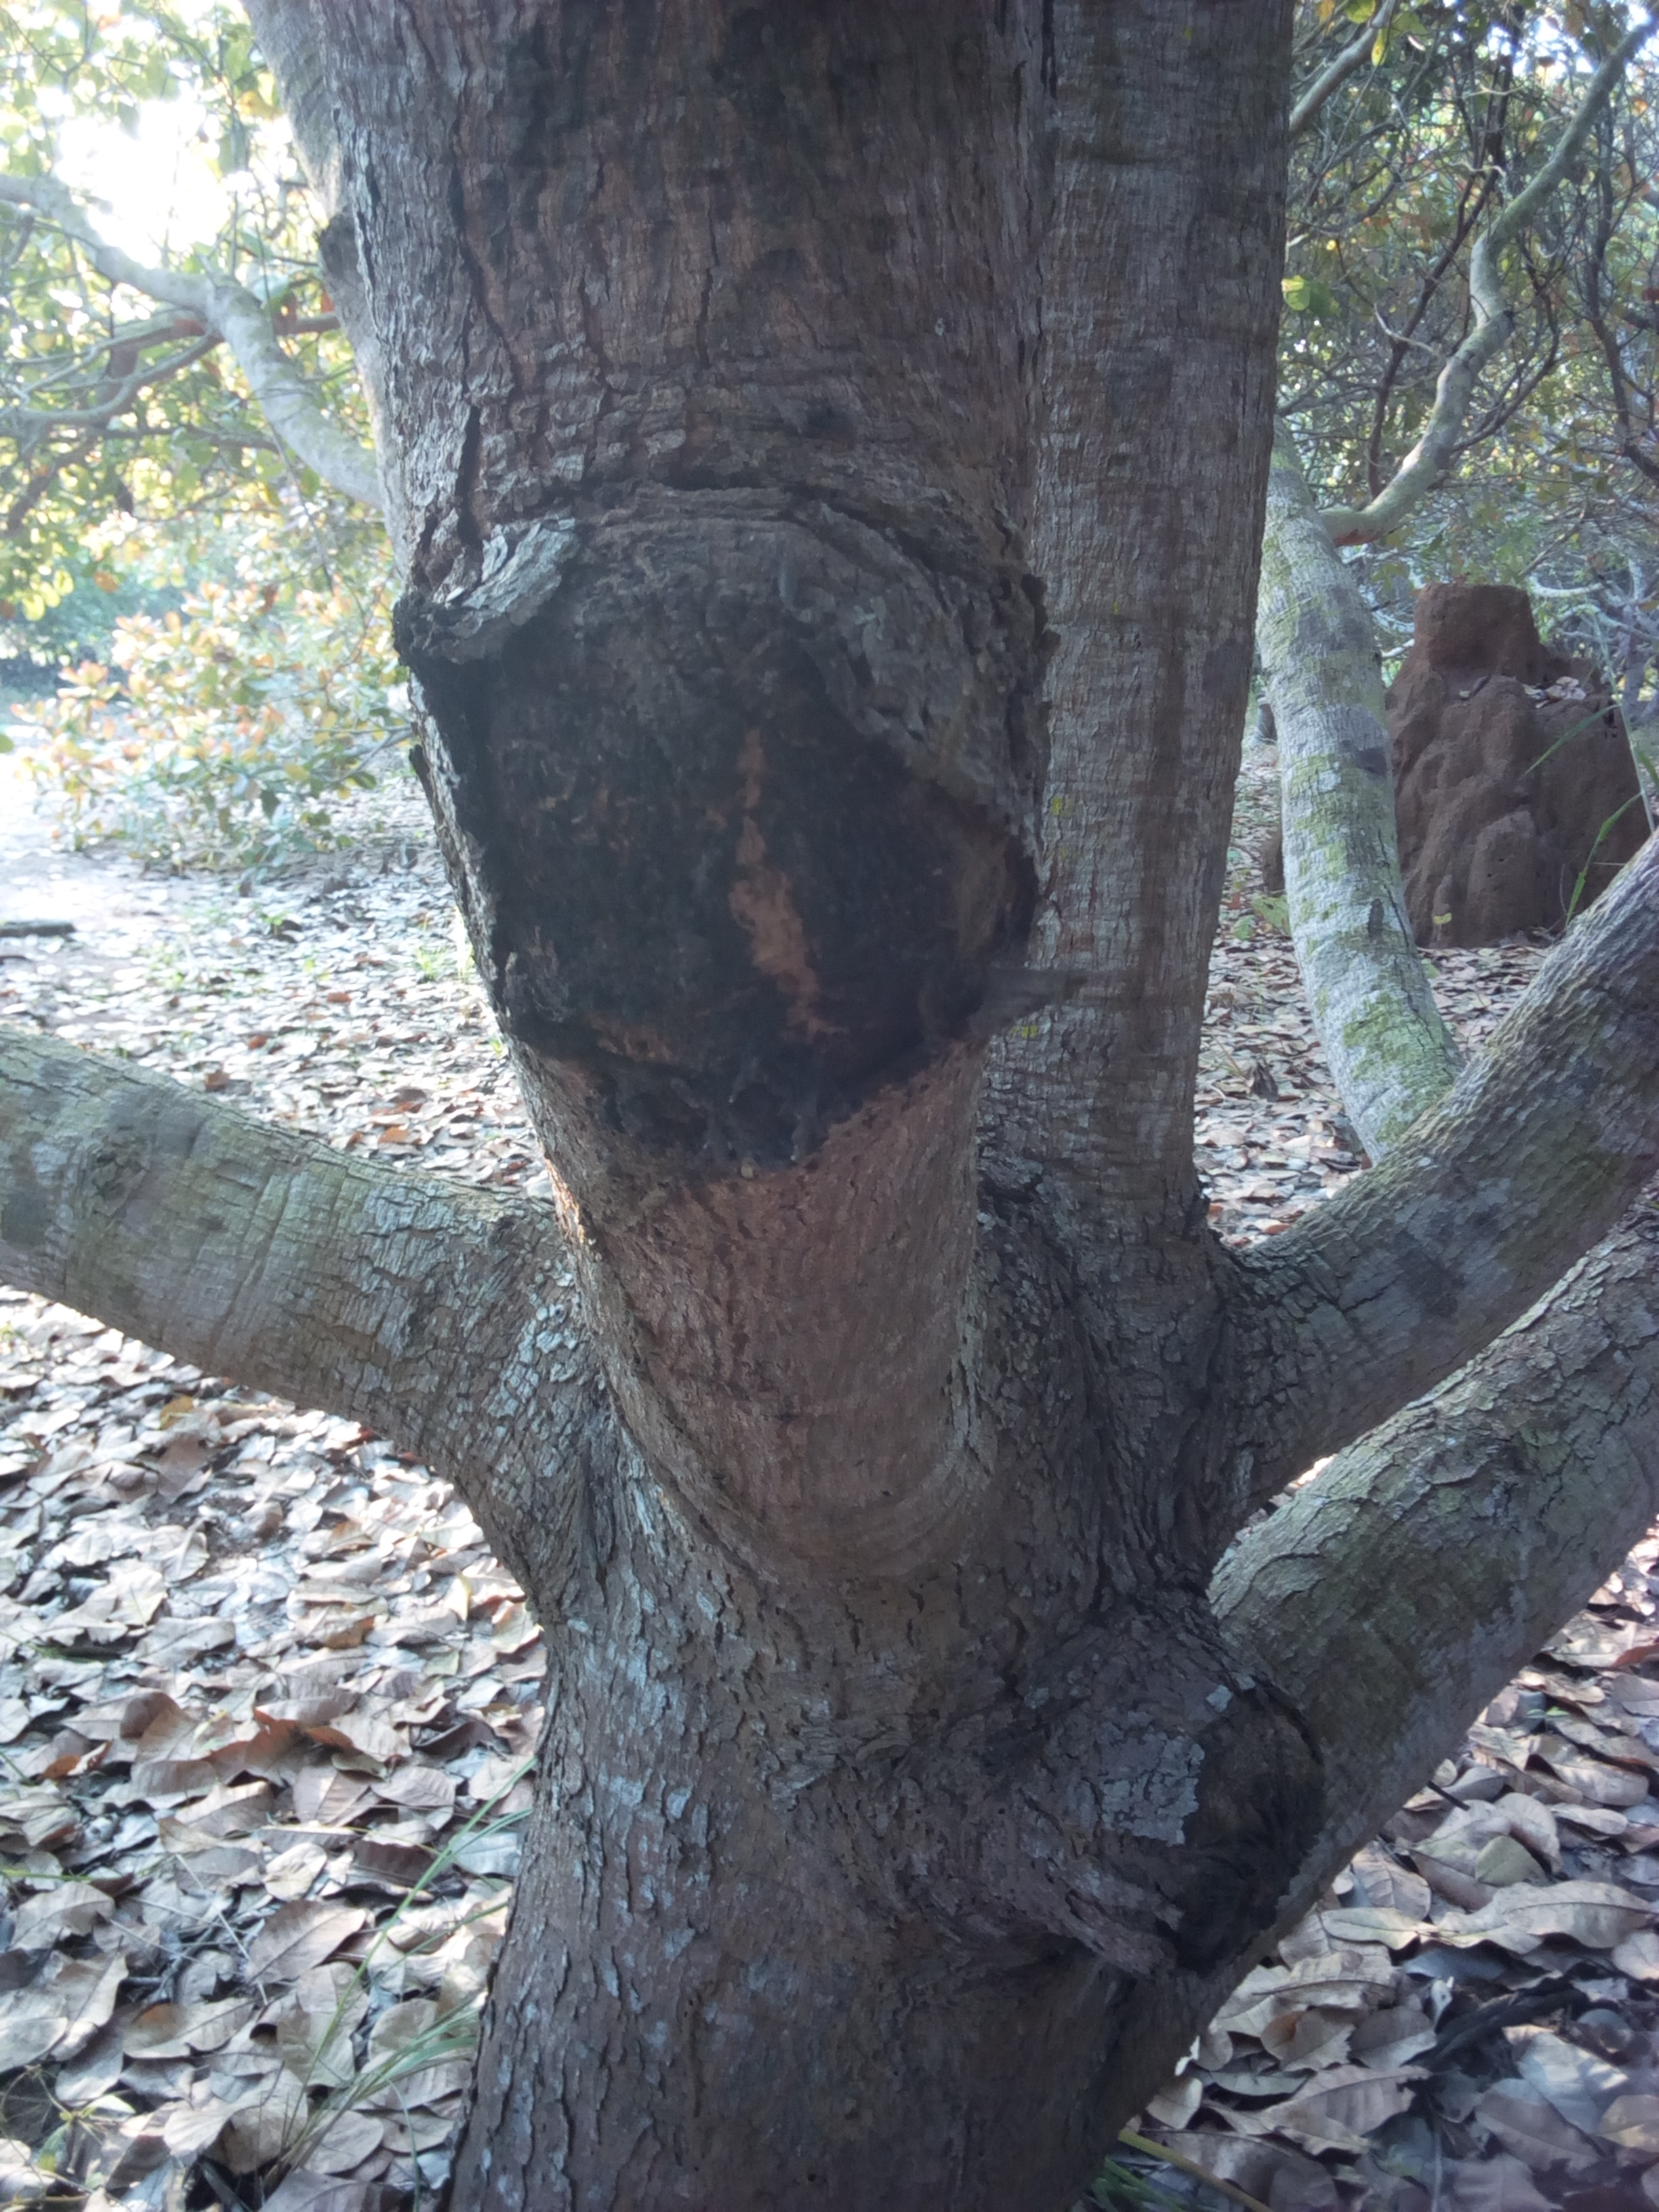ploceadorus ferrugineus: (436, 388, 1063, 1278)
